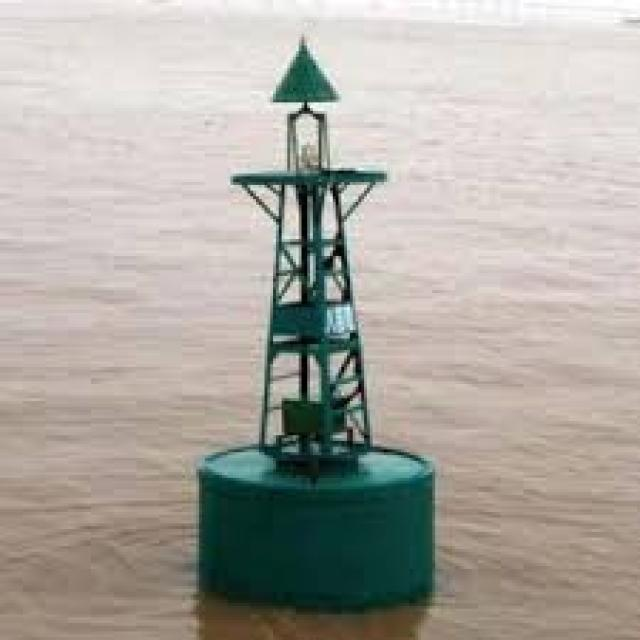marque: (180, 19, 463, 620)
